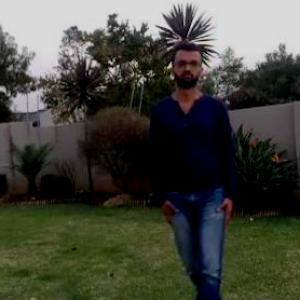follow: (152, 38, 241, 299)
